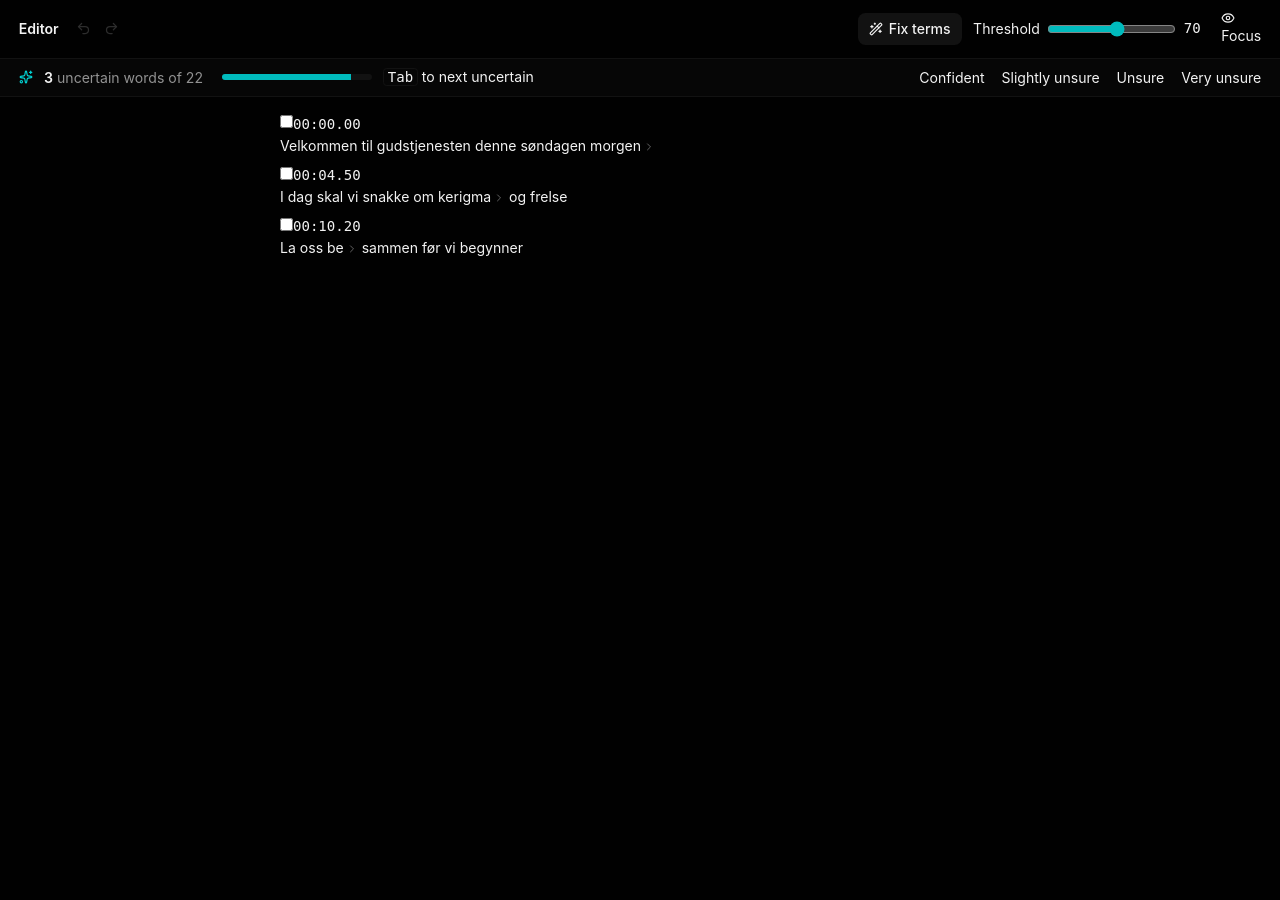
CaptionEditor — bulk action bar › shift-click selects a contiguous range
This screenshot has width=1280, height=900.
Click the checkbox named "Select caption" next to "00:00.00": (286, 122) [280, 115, 293, 128]
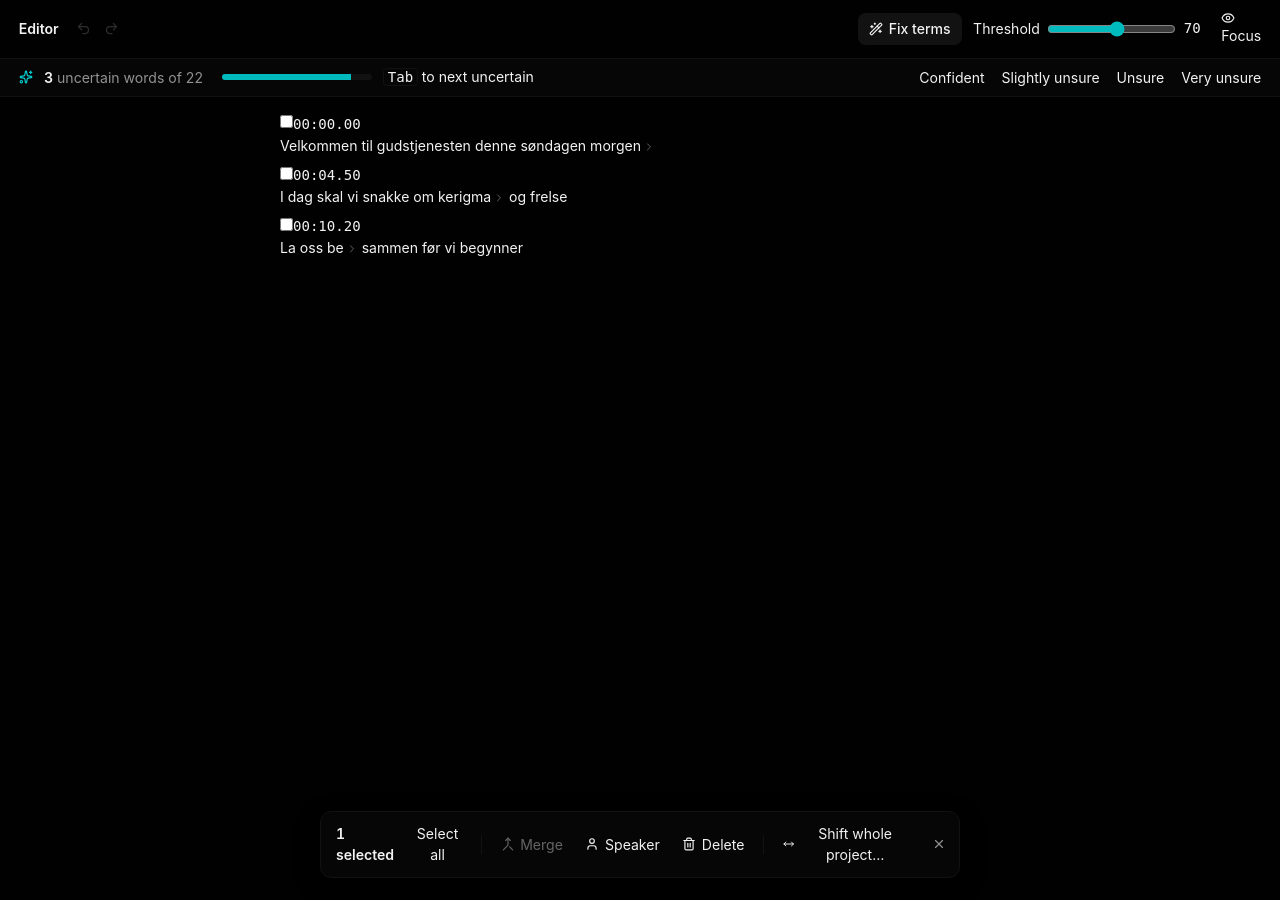
Click the checkbox named "Select caption" next to "00:10.20": (286, 225) [280, 218, 293, 231]
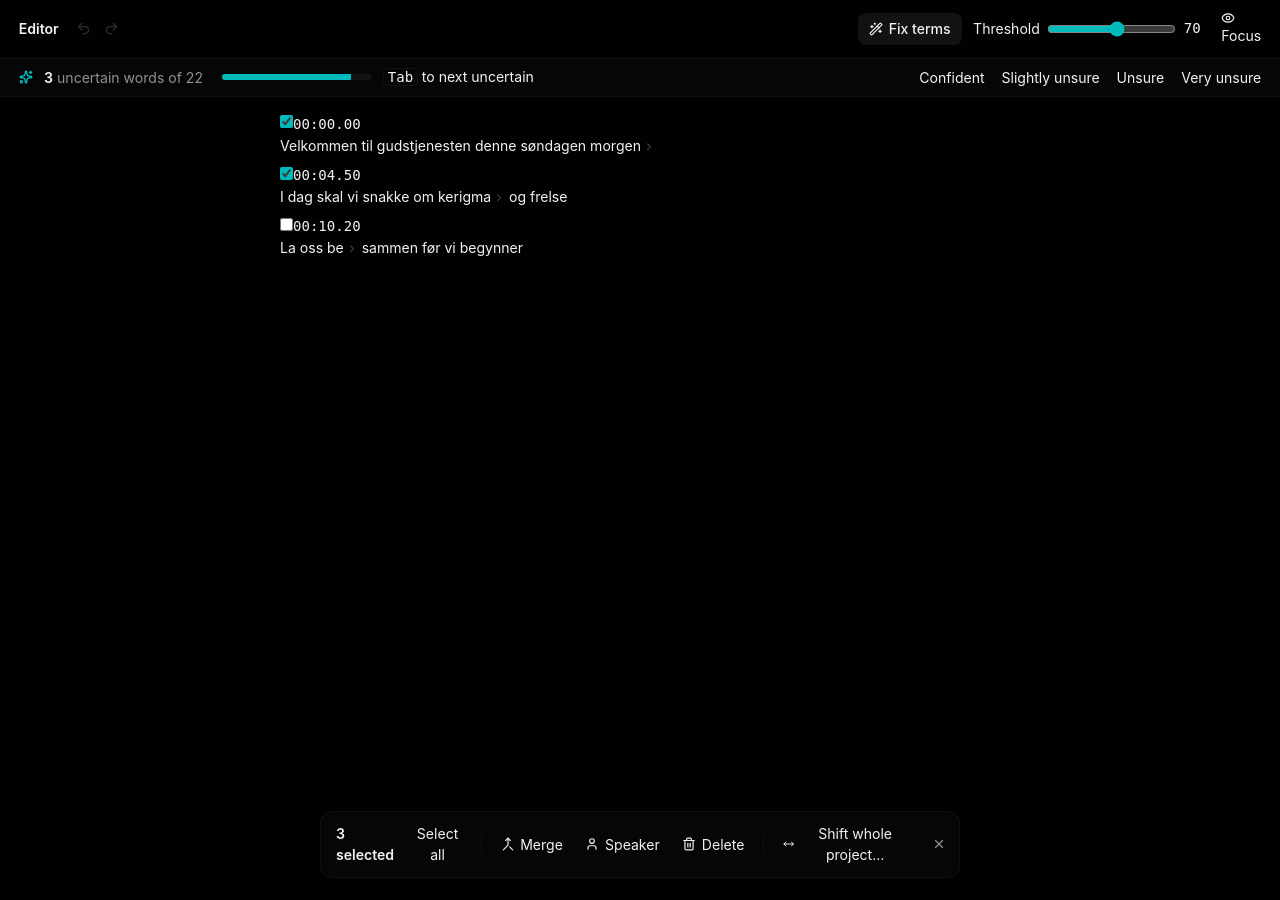
Expected: the text "3 selected" is shown, [332, 823, 398, 865]
Expected: the button "Merge" is enabled, [493, 830, 570, 858]
